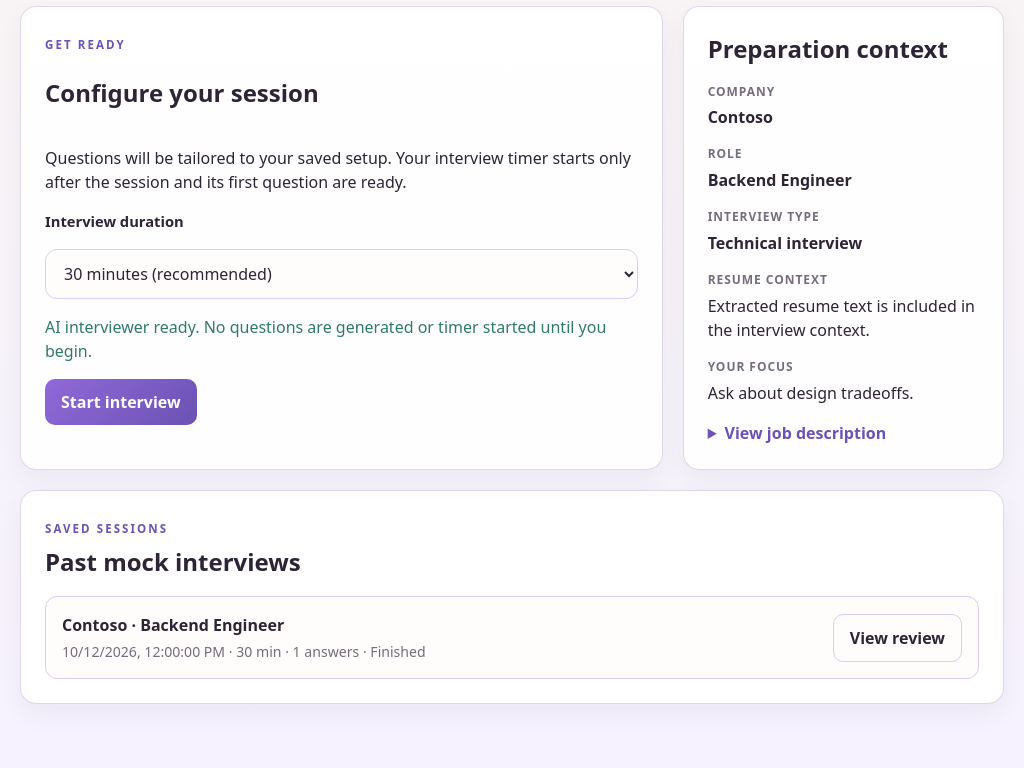
Test: MockInterview › reopens a persisted review from this setup's past sessions
This screenshot has width=1024, height=768.
(page scrolled)
Click the button "View review": coordinates (897, 638) [833, 614, 962, 662]
(page scrolled)
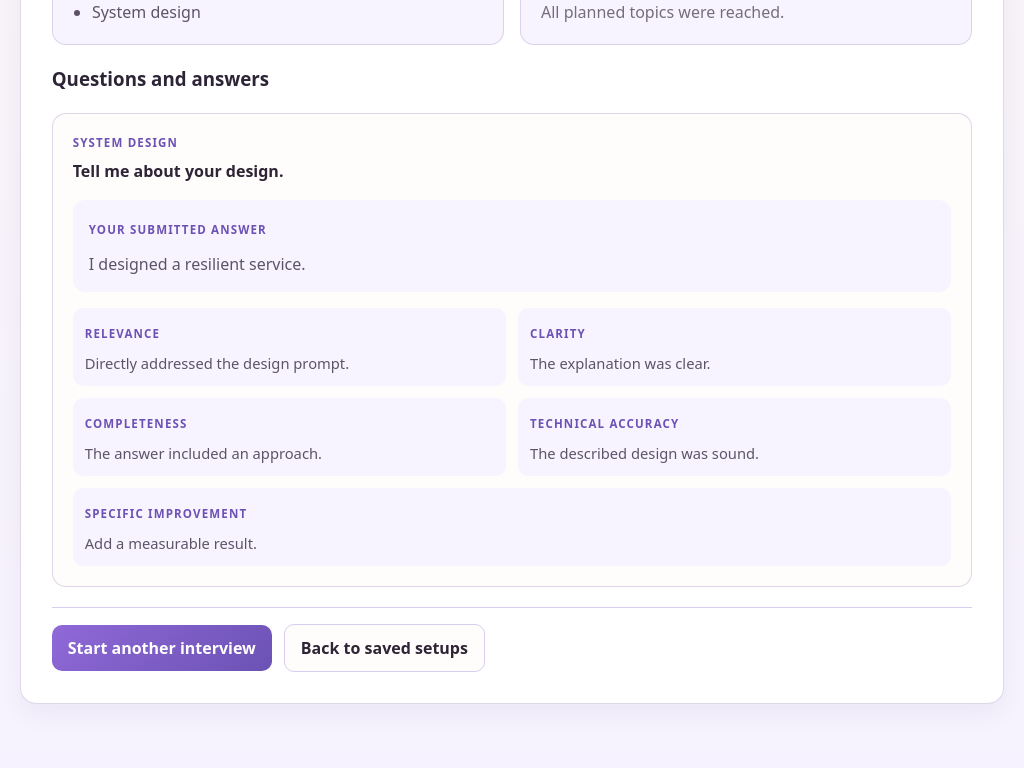
expect the text "Add a measurable result." is shown: met, box [85, 533, 257, 553]
